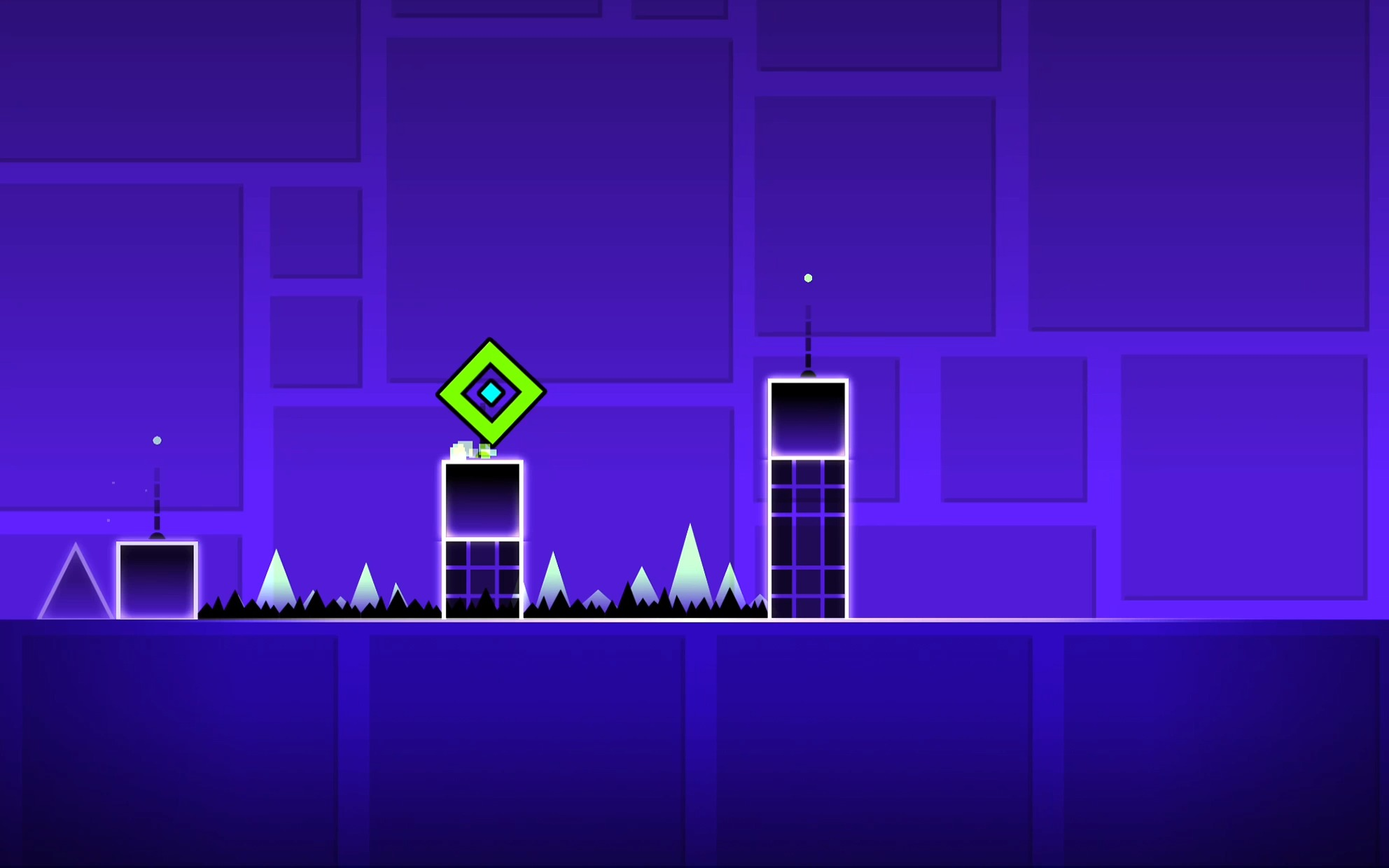Block: (114, 540, 198, 618), (767, 378, 848, 457), (443, 460, 522, 538)
Block2: (769, 458, 845, 622), (444, 538, 521, 618)
Player: (435, 339, 544, 448)
Spike: (39, 545, 113, 617)
Spike2: (527, 589, 767, 622), (200, 592, 438, 620)
